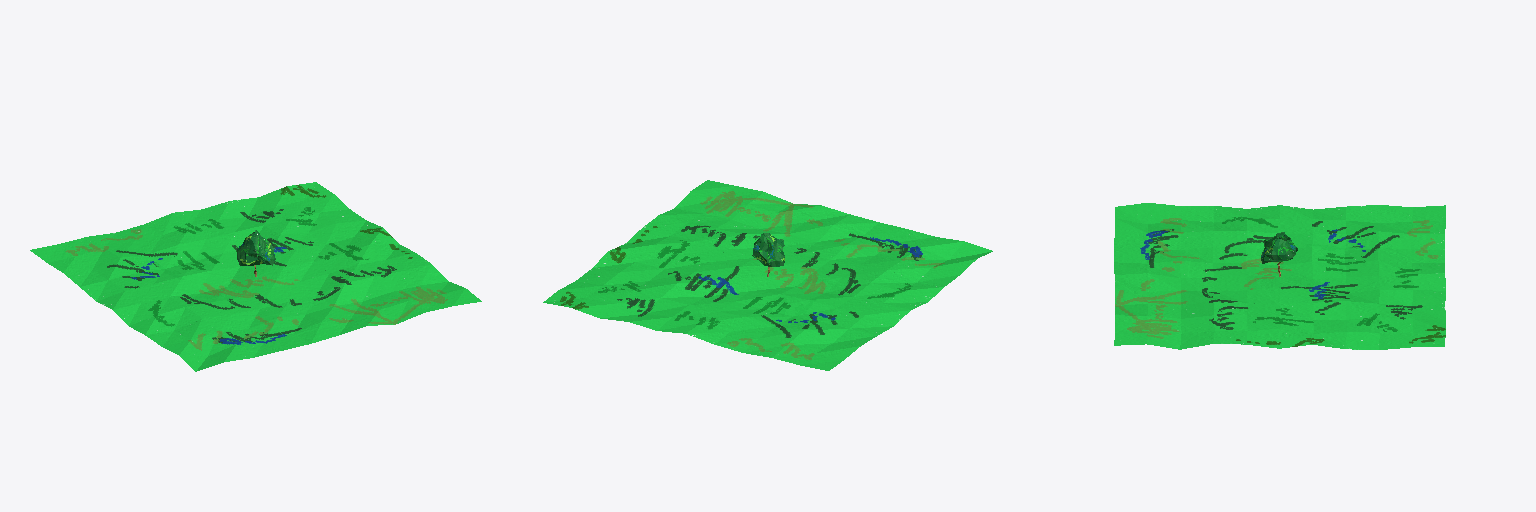
3 renders of one model, left to right at view 1: azimuth 30°, elevation 25°; view 2: azimuth 150°, elevation 25°; view 3: azimuth 270°, elevation 25°, orthographic.
Visible parts, largest first — view 1: Sol, feuillageChene; view 2: Sol, feuillageChene; view 3: Sol, feuillageChene.
Boxes of the visible parts, x1=… form: Sol: x1=30, y1=182, x2=481, y2=371; feuillageChene: x1=236, y1=230, x2=275, y2=265; Sol: x1=543, y1=180, x2=992, y2=370; feuillageChene: x1=752, y1=233, x2=784, y2=266; Sol: x1=1114, y1=203, x2=1445, y2=349; feuillageChene: x1=1261, y1=232, x2=1297, y2=263.
Bounding box in the file's own units: 1607 × 260 × 1607.
3 materials, 3 textured.